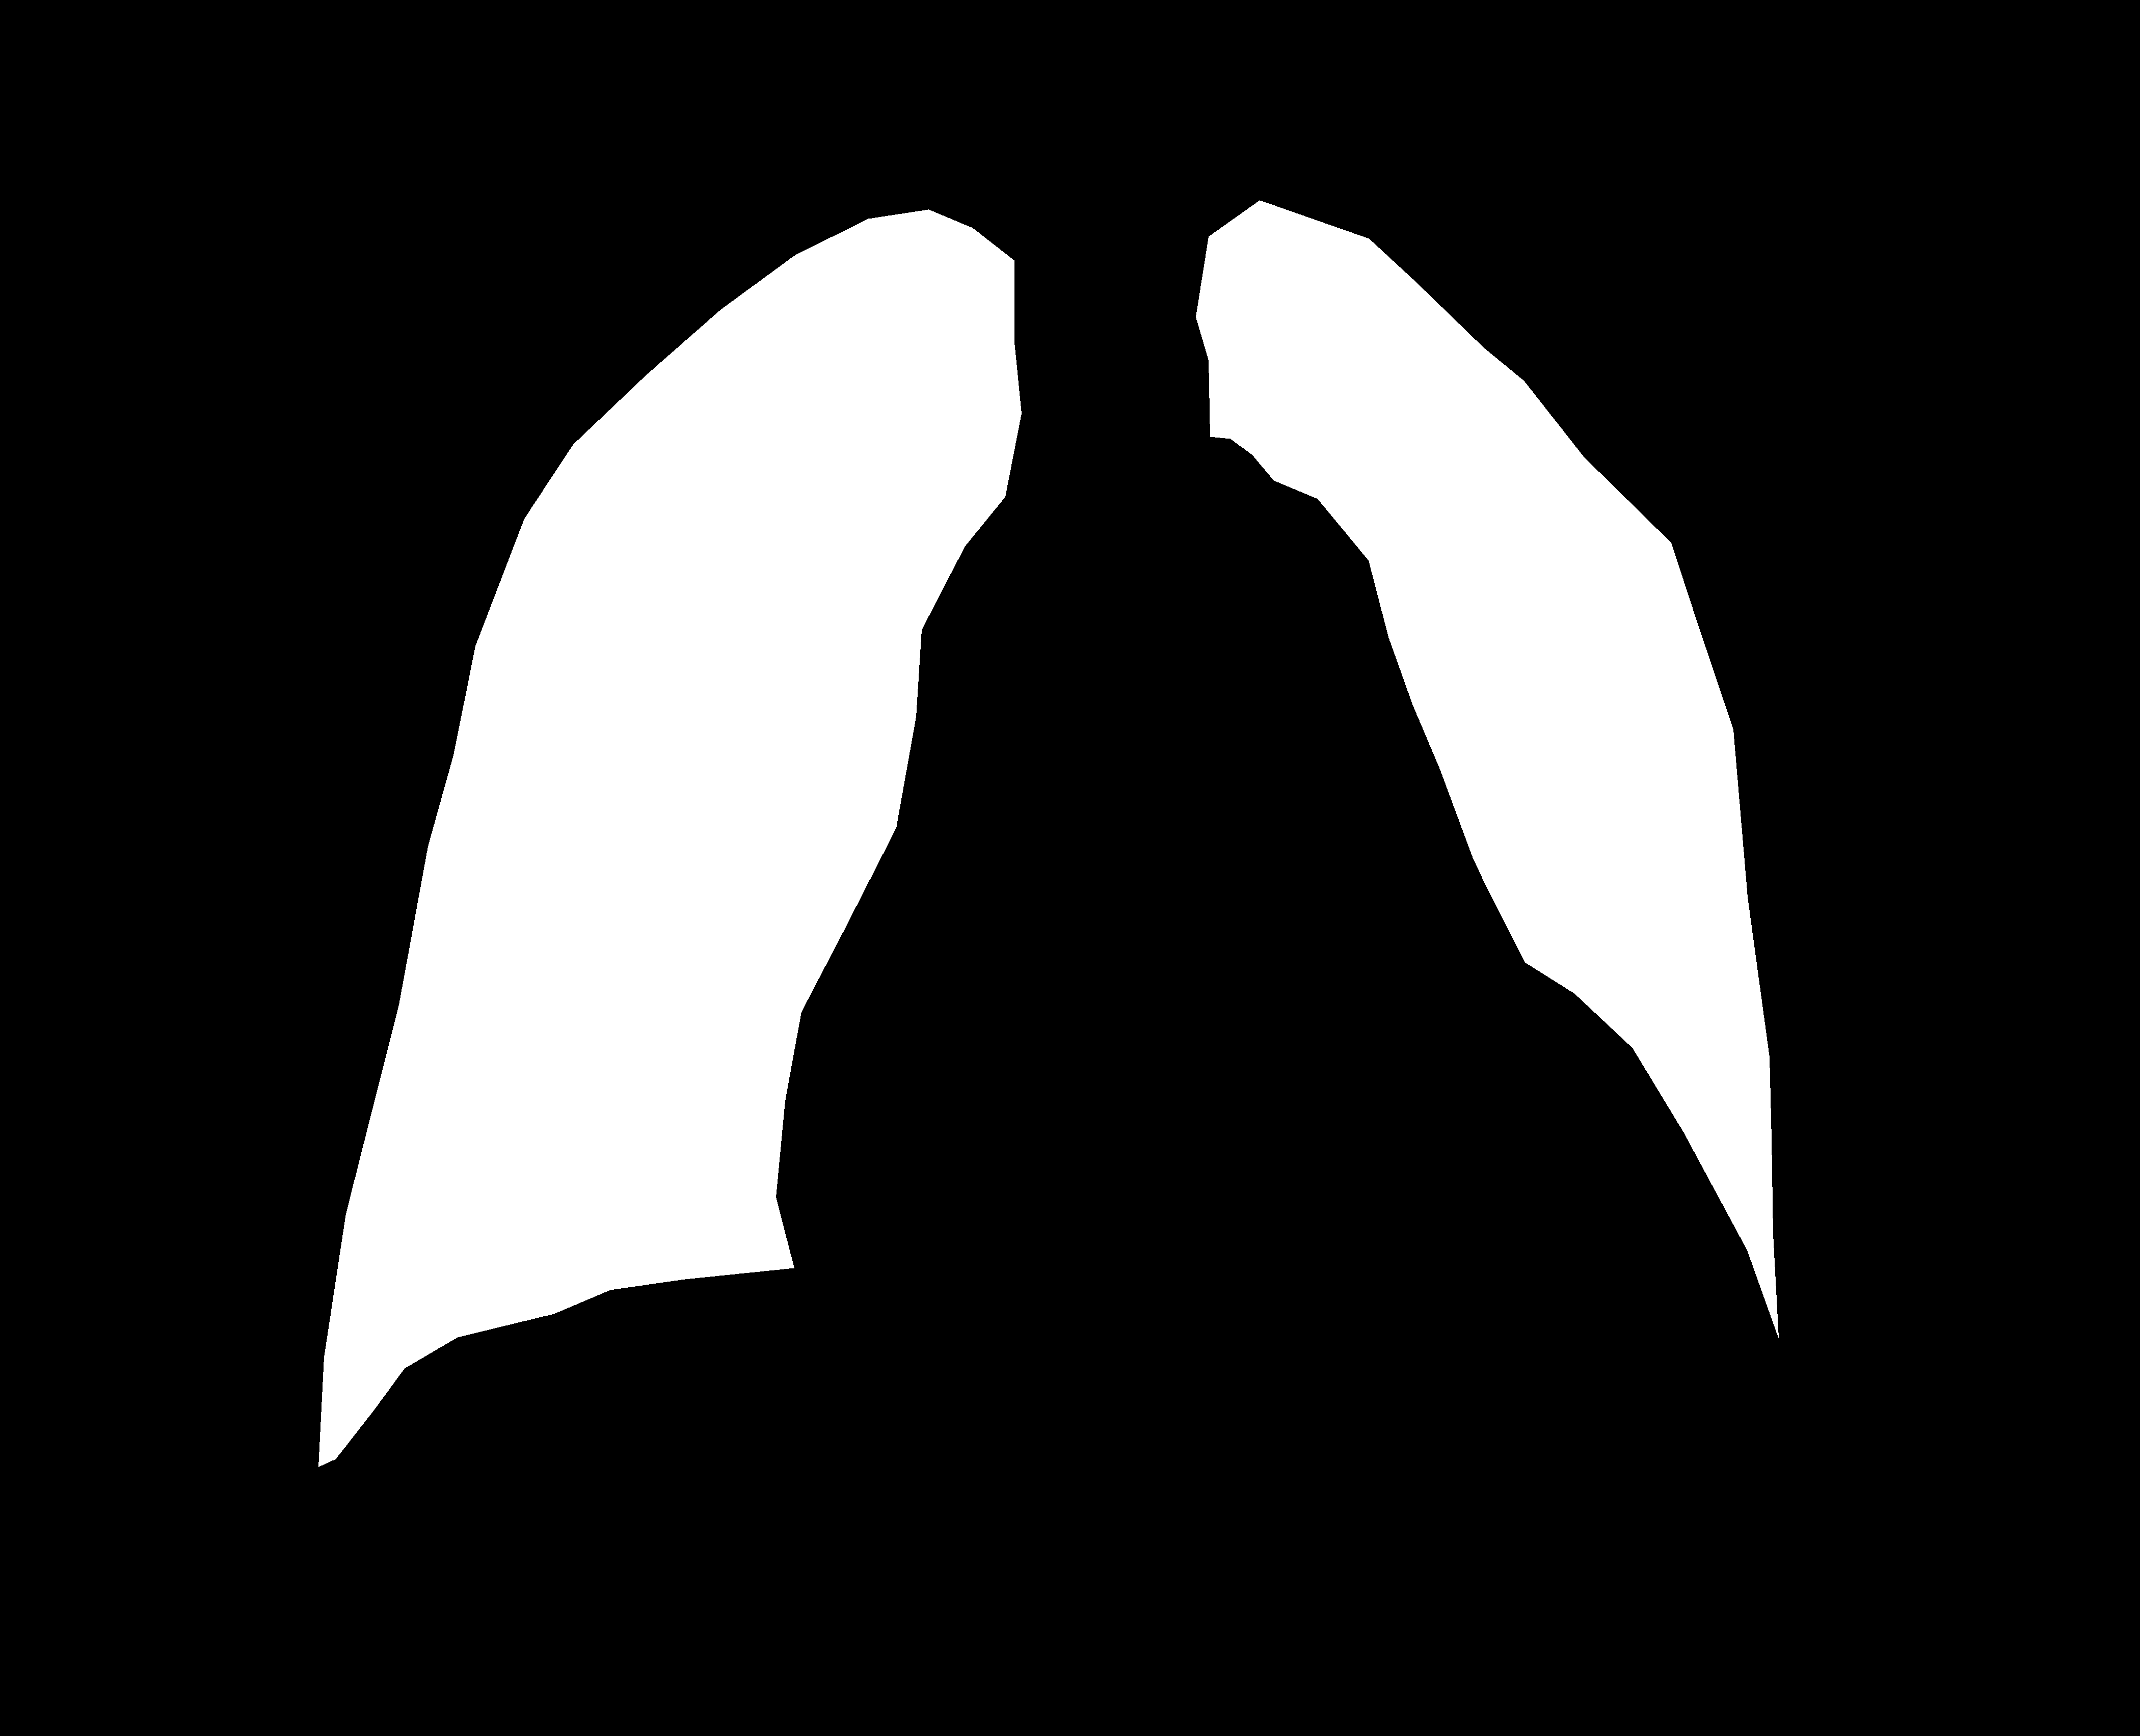heart: (788, 652, 1784, 1431)
left_lung: (319, 209, 1020, 1467)
right_lung: (1196, 200, 1779, 1337)
